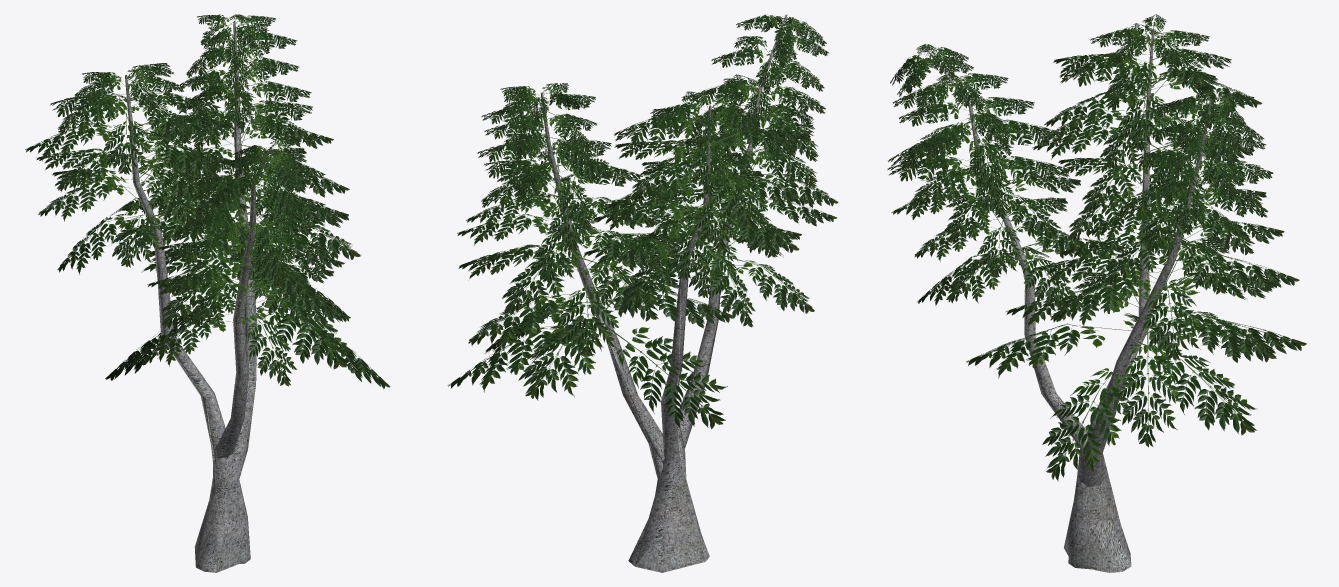
The model's file is africanMahogany_01.DAE.
The picture shows the model from 3 angles, left to right: view 1: azimuth 30°, elevation 25°; view 2: azimuth 150°, elevation 25°; view 3: azimuth 270°, elevation 25°; orthographic projection. The views are drawn at different scales.
Visible parts, largest first — view 1: africanMahoganyOne256, africanMahoganyOne128; view 2: africanMahoganyOne256, africanMahoganyOne128; view 3: africanMahoganyOne256, africanMahoganyOne128.
Boxes of the visible parts, bbox=[...] form: africanMahoganyOne256: bbox=[25, 14, 390, 572]; africanMahoganyOne128: bbox=[26, 15, 389, 572]; africanMahoganyOne256: bbox=[447, 14, 837, 572]; africanMahoganyOne128: bbox=[448, 14, 837, 572]; africanMahoganyOne256: bbox=[887, 14, 1306, 572]; africanMahoganyOne128: bbox=[889, 18, 1306, 571].
Size of what is drawn, in the model's own units: 6.92 by 7.57 by 9.3.
